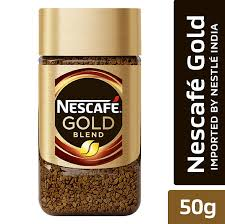nescafe-classic/gold-small: (37, 6, 142, 216)
